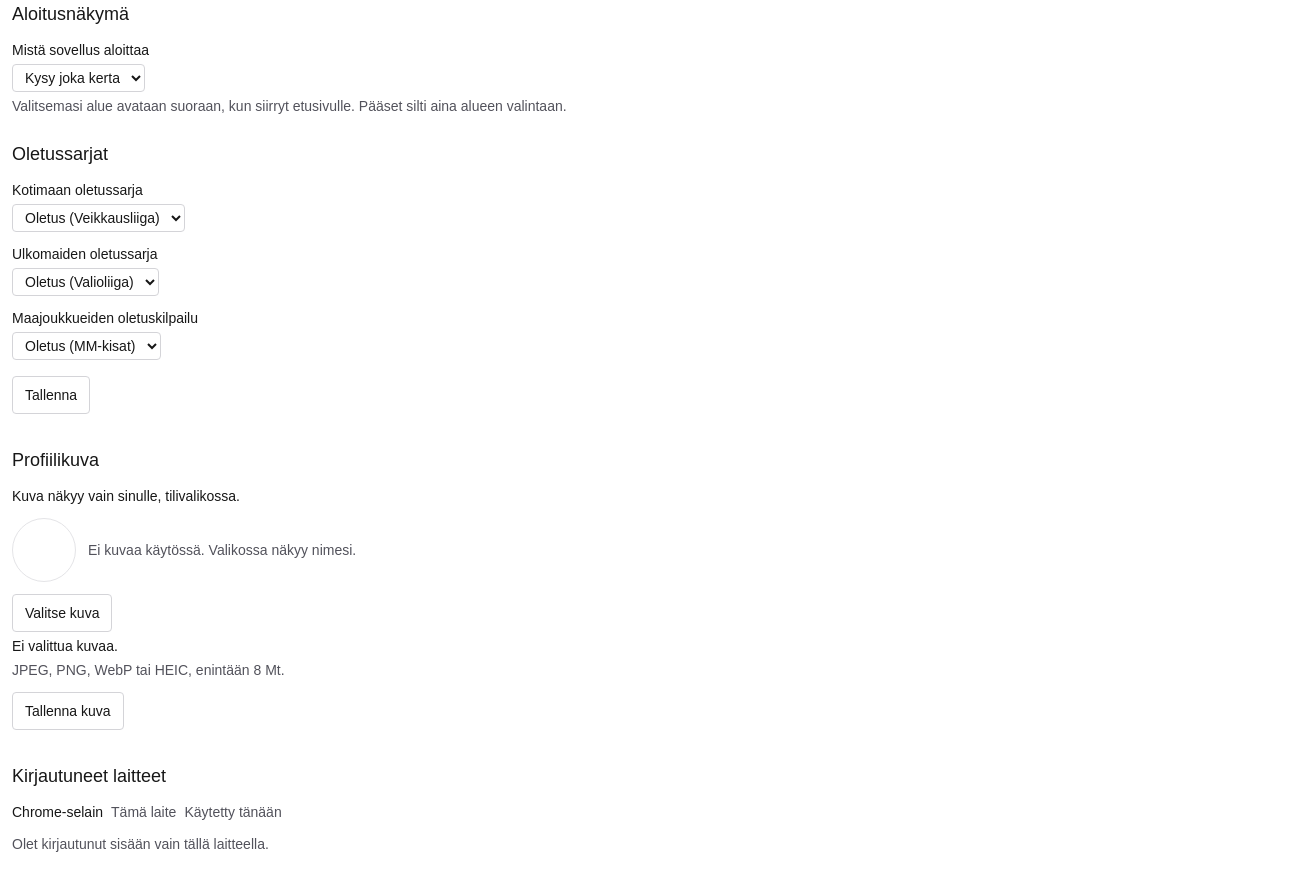
Test case: preferences › does not refresh the session when the save failed
This screenshot has width=1292, height=891.
Click the button "Tallenna": [51, 395] box [12, 376, 90, 414]
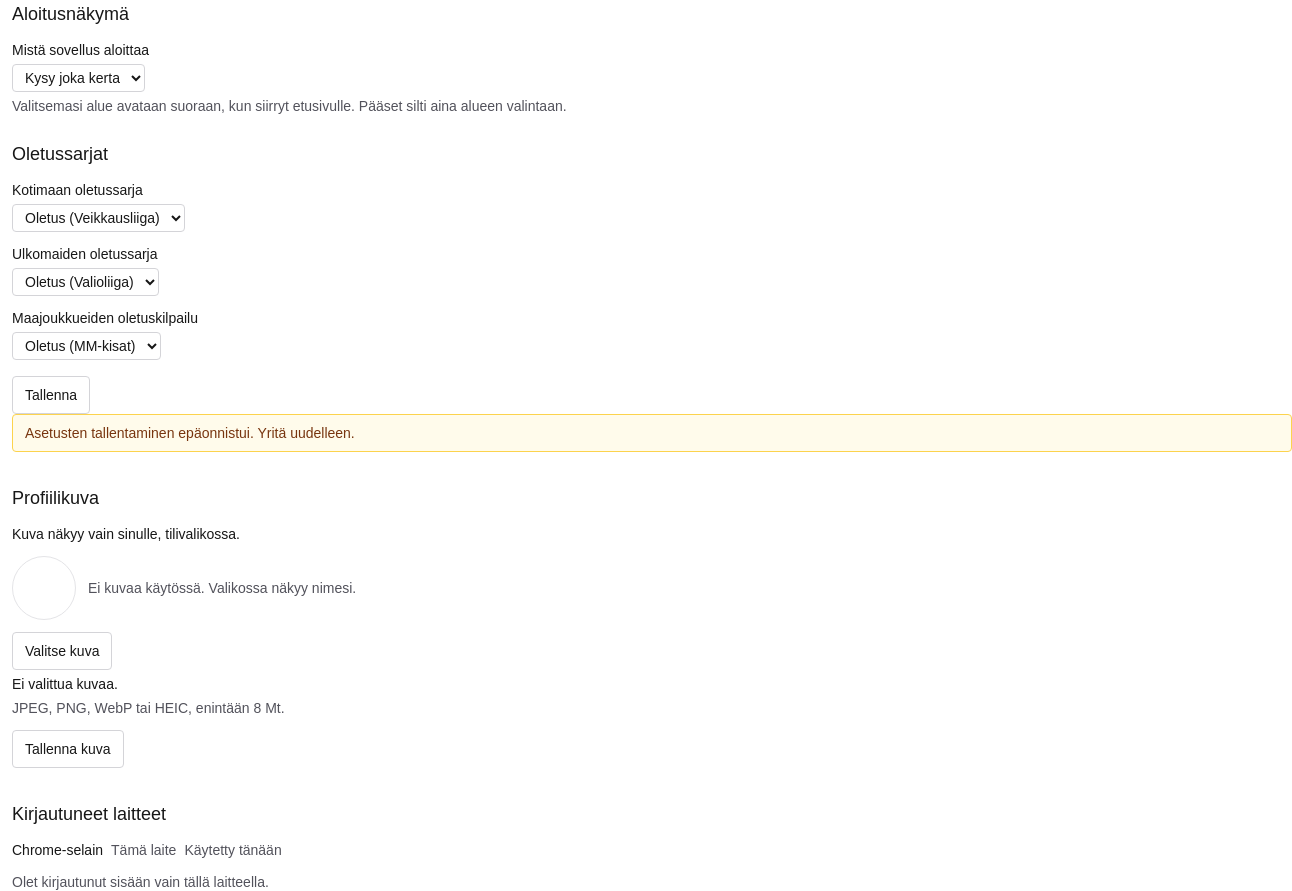
Check: the text "Asetusten tallentaminen epäonnistui. Yritä uudelleen." is shown, box [12, 414, 1291, 452]
